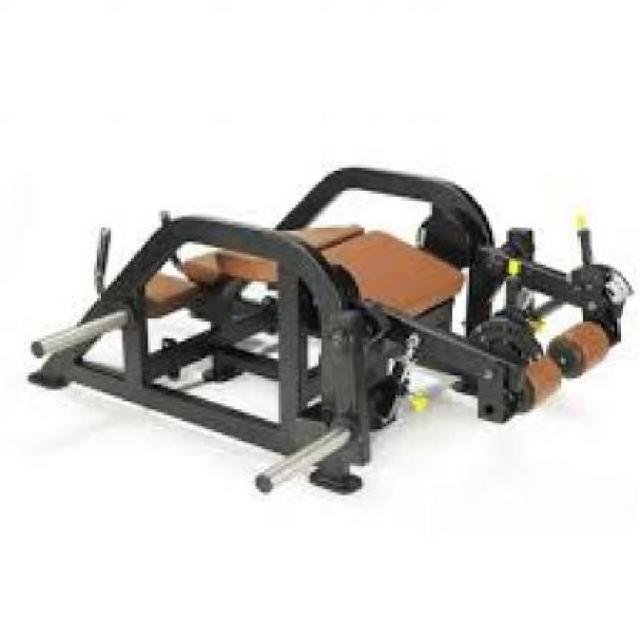reg curl machine: (17, 158, 634, 504)
